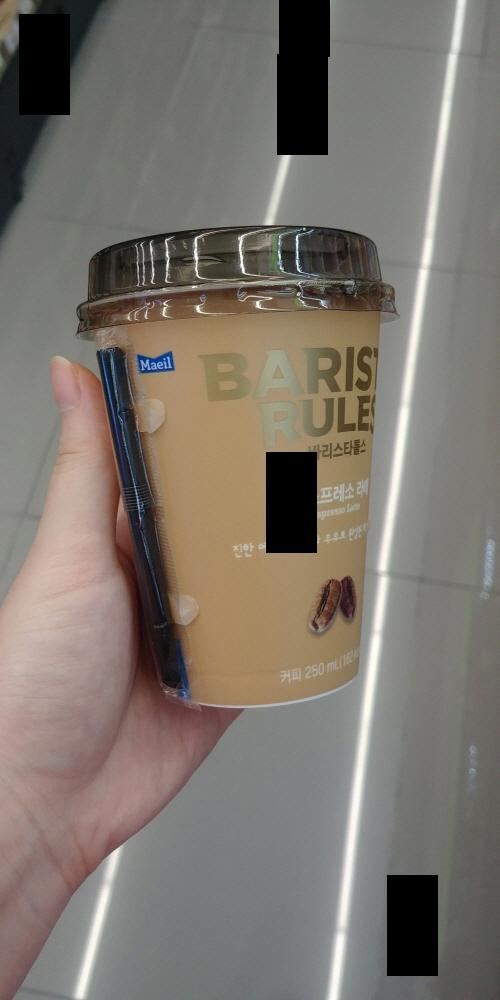baristarules_espressolatte: (66, 213, 415, 738)
